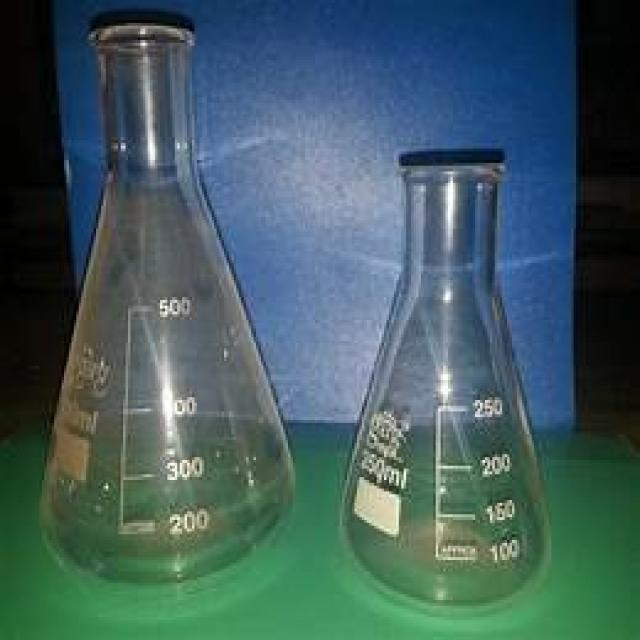Titrarion: (25, 19, 305, 585), (349, 128, 552, 608)
